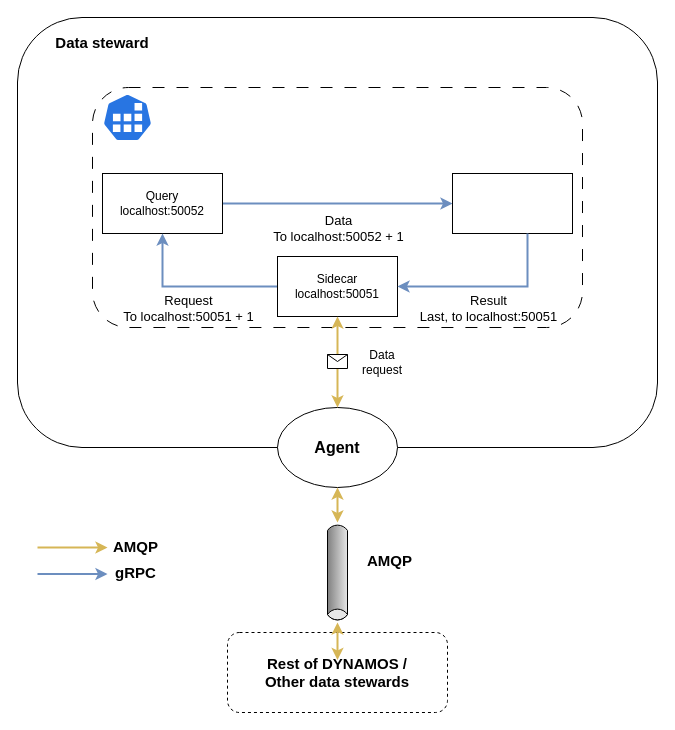
Some shapes in this 675 by 730 pixel diagram are drawn without their labels. Here are the shapes that lost their labels. From the top down, the box of each, then its label:
(102, 92, 152, 142): Job
(452, 172, 572, 234): Anonymize localhost:50053
